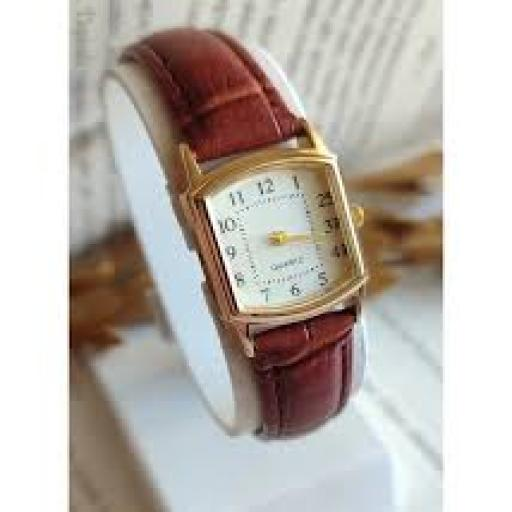KolSaati: (92, 12, 396, 447)
